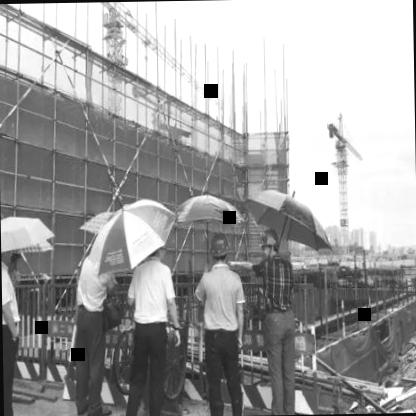helmet: (205, 230, 232, 268), (258, 226, 283, 261)
